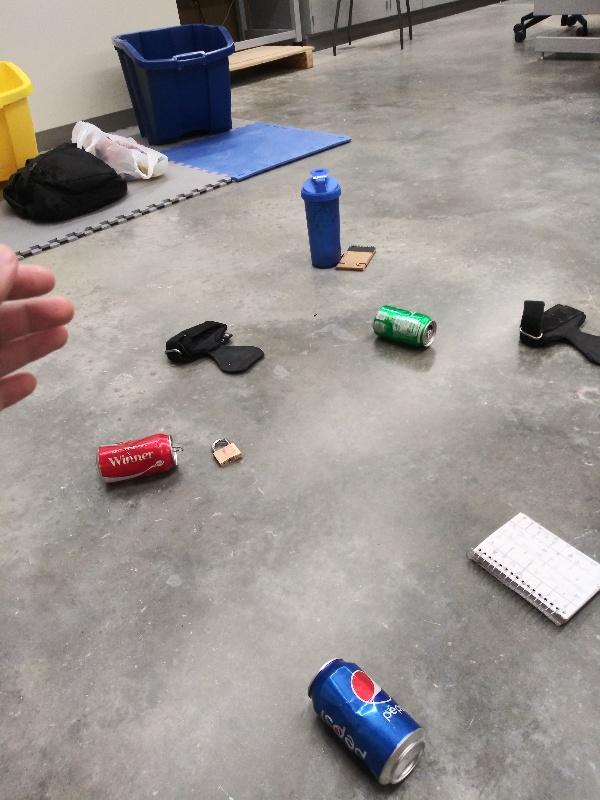can: (307, 657, 433, 792), (91, 430, 187, 492), (369, 302, 440, 355)
